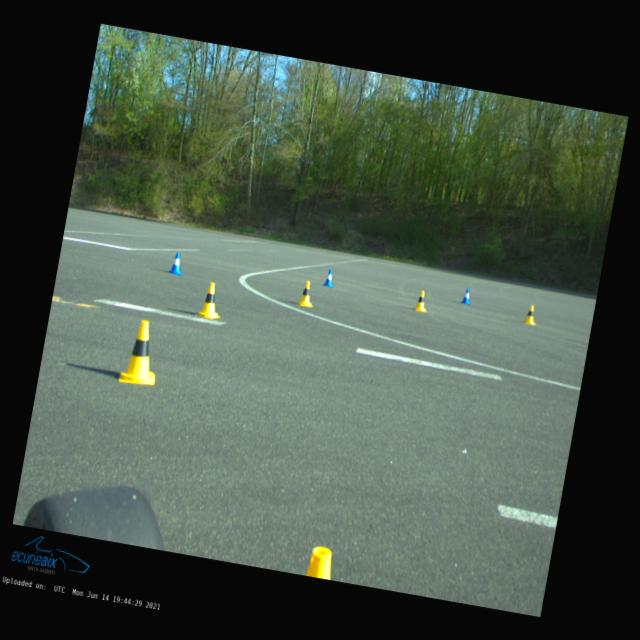blue_cone: (168, 252, 186, 276), (322, 268, 336, 287), (460, 288, 472, 304)
yellow_cone: (116, 316, 164, 388), (195, 280, 225, 320), (297, 280, 317, 308), (522, 304, 538, 325), (414, 290, 429, 312)
